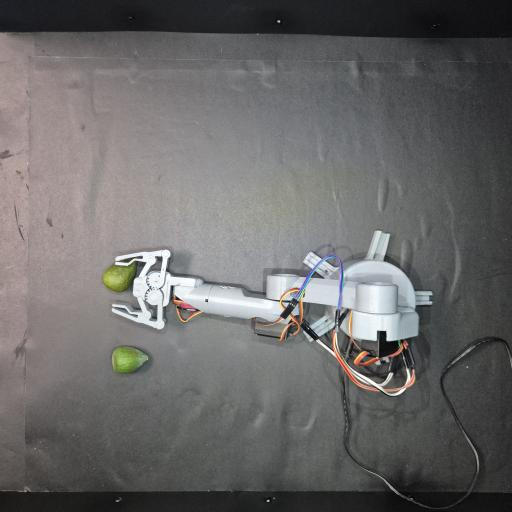higo: (102, 262, 136, 292), (112, 346, 148, 374)
